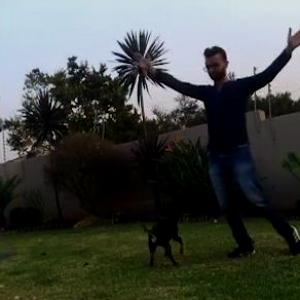takeoff: (150, 26, 299, 240)
